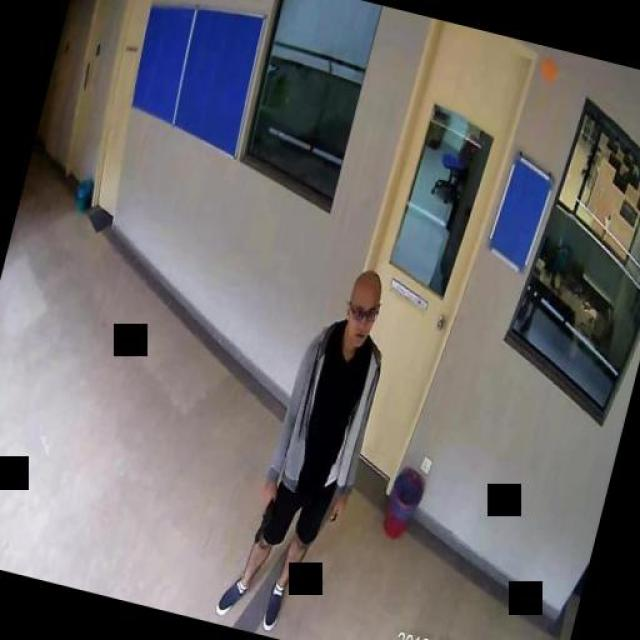gun: (250, 487, 278, 542)
